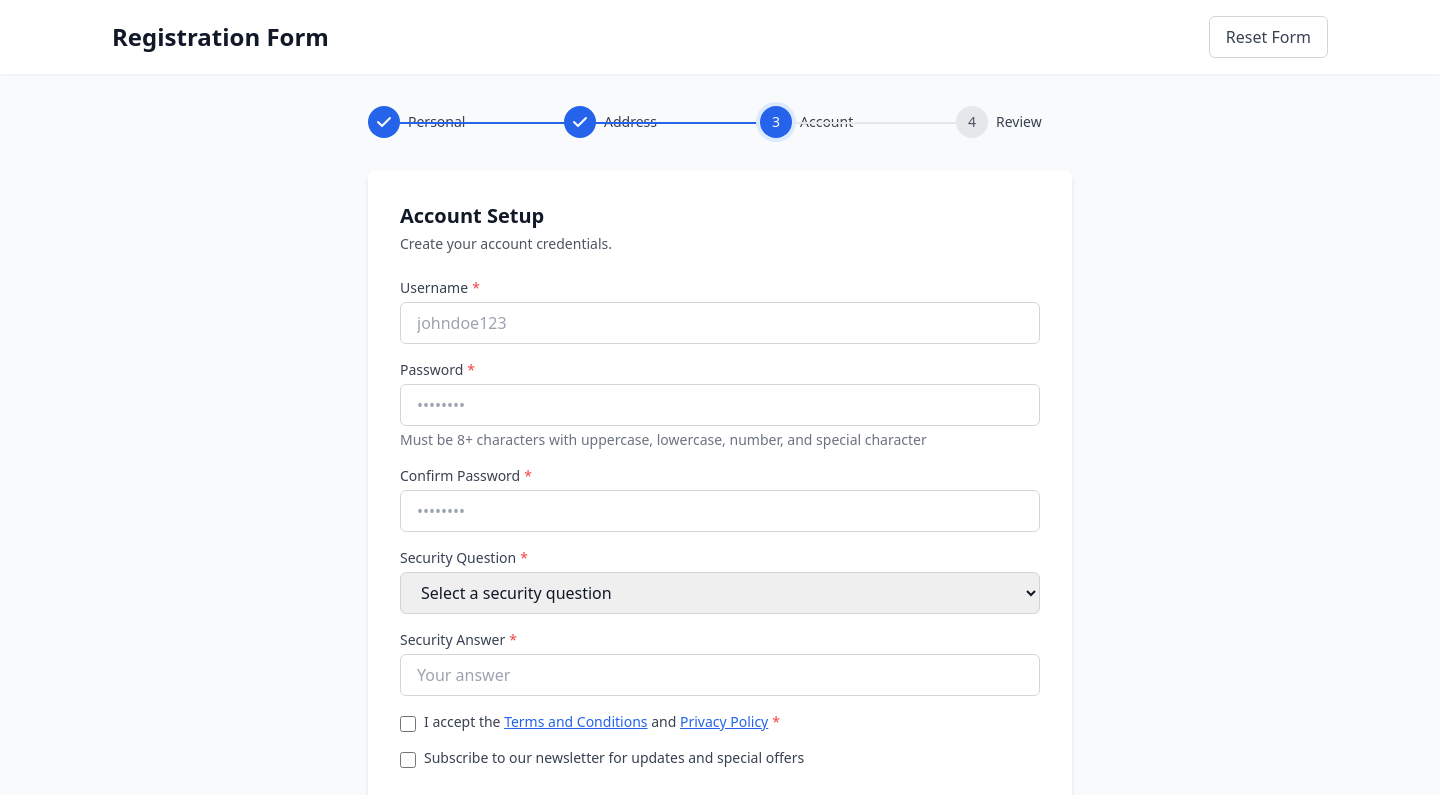
Test: AccountInfo Component › validates password strength
Type "weak" into the password field labelled "Password*".
click(720, 405); type("weak")  # box x1=400 y1=384 x2=1040 y2=426
(page scrolled)
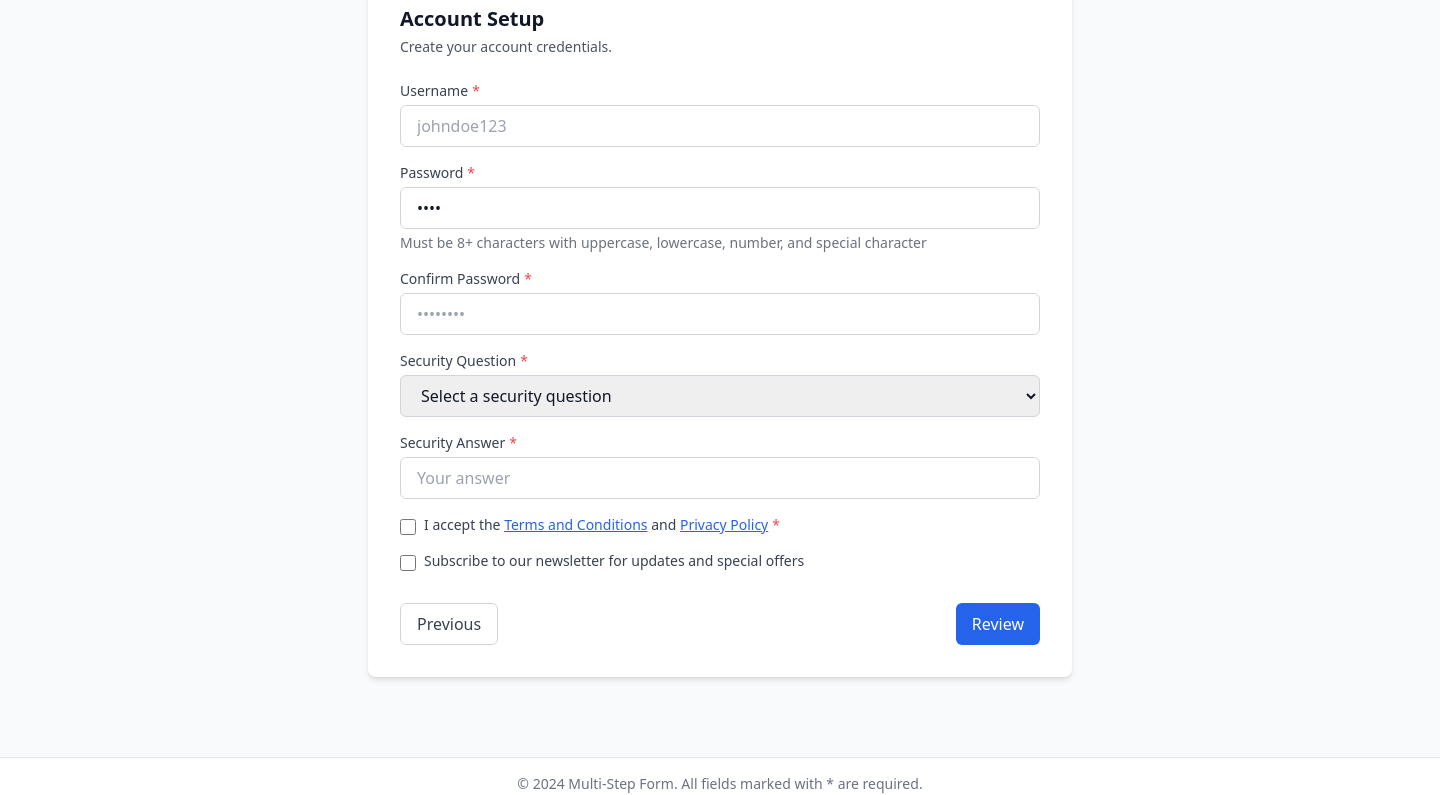
Click the button with test id "account-next-btn".
click(998, 624)  # box x1=956 y1=603 x2=1040 y2=645
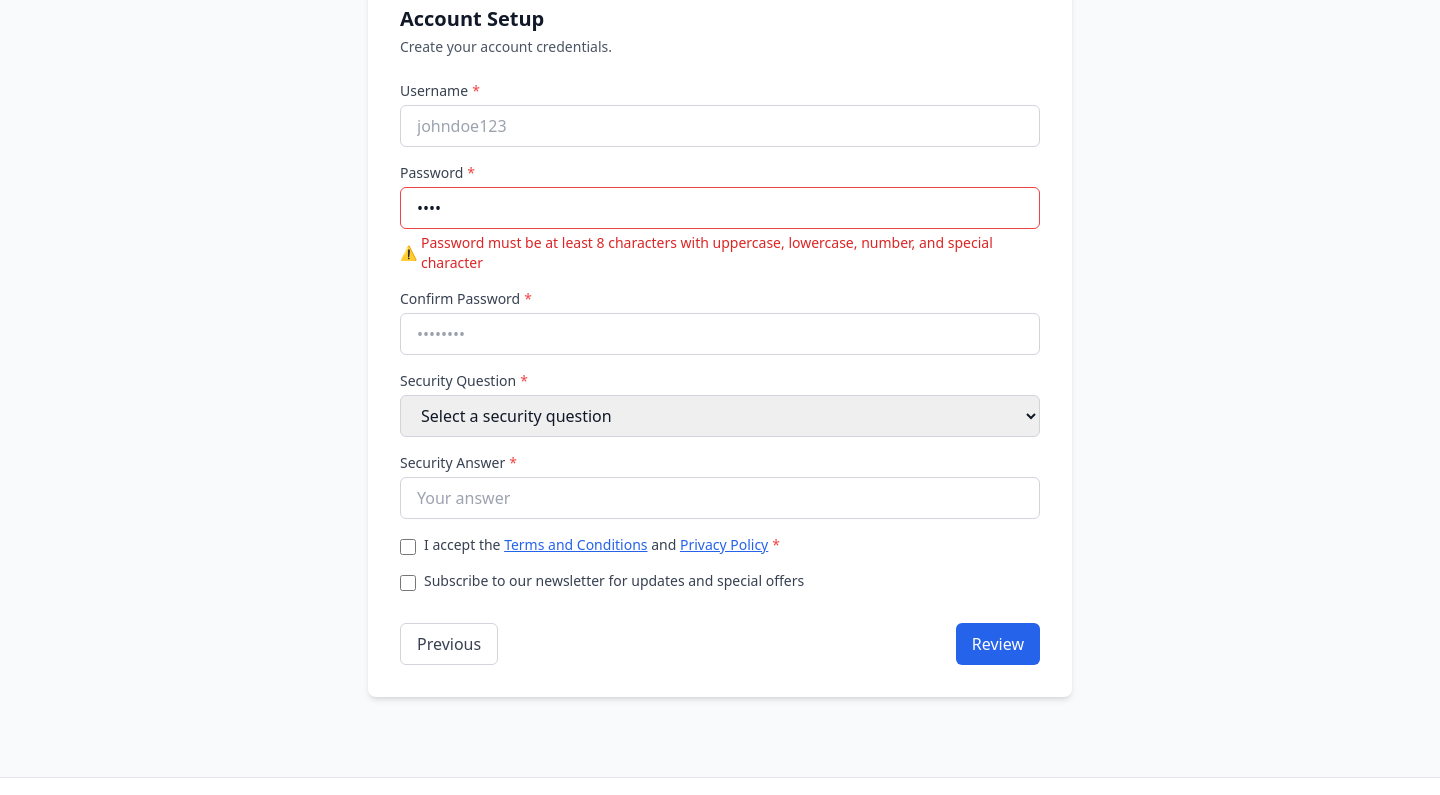
Expected: the text "Password must be at least 8 characters" is shown, x1=421 y1=233 x2=993 y2=272
